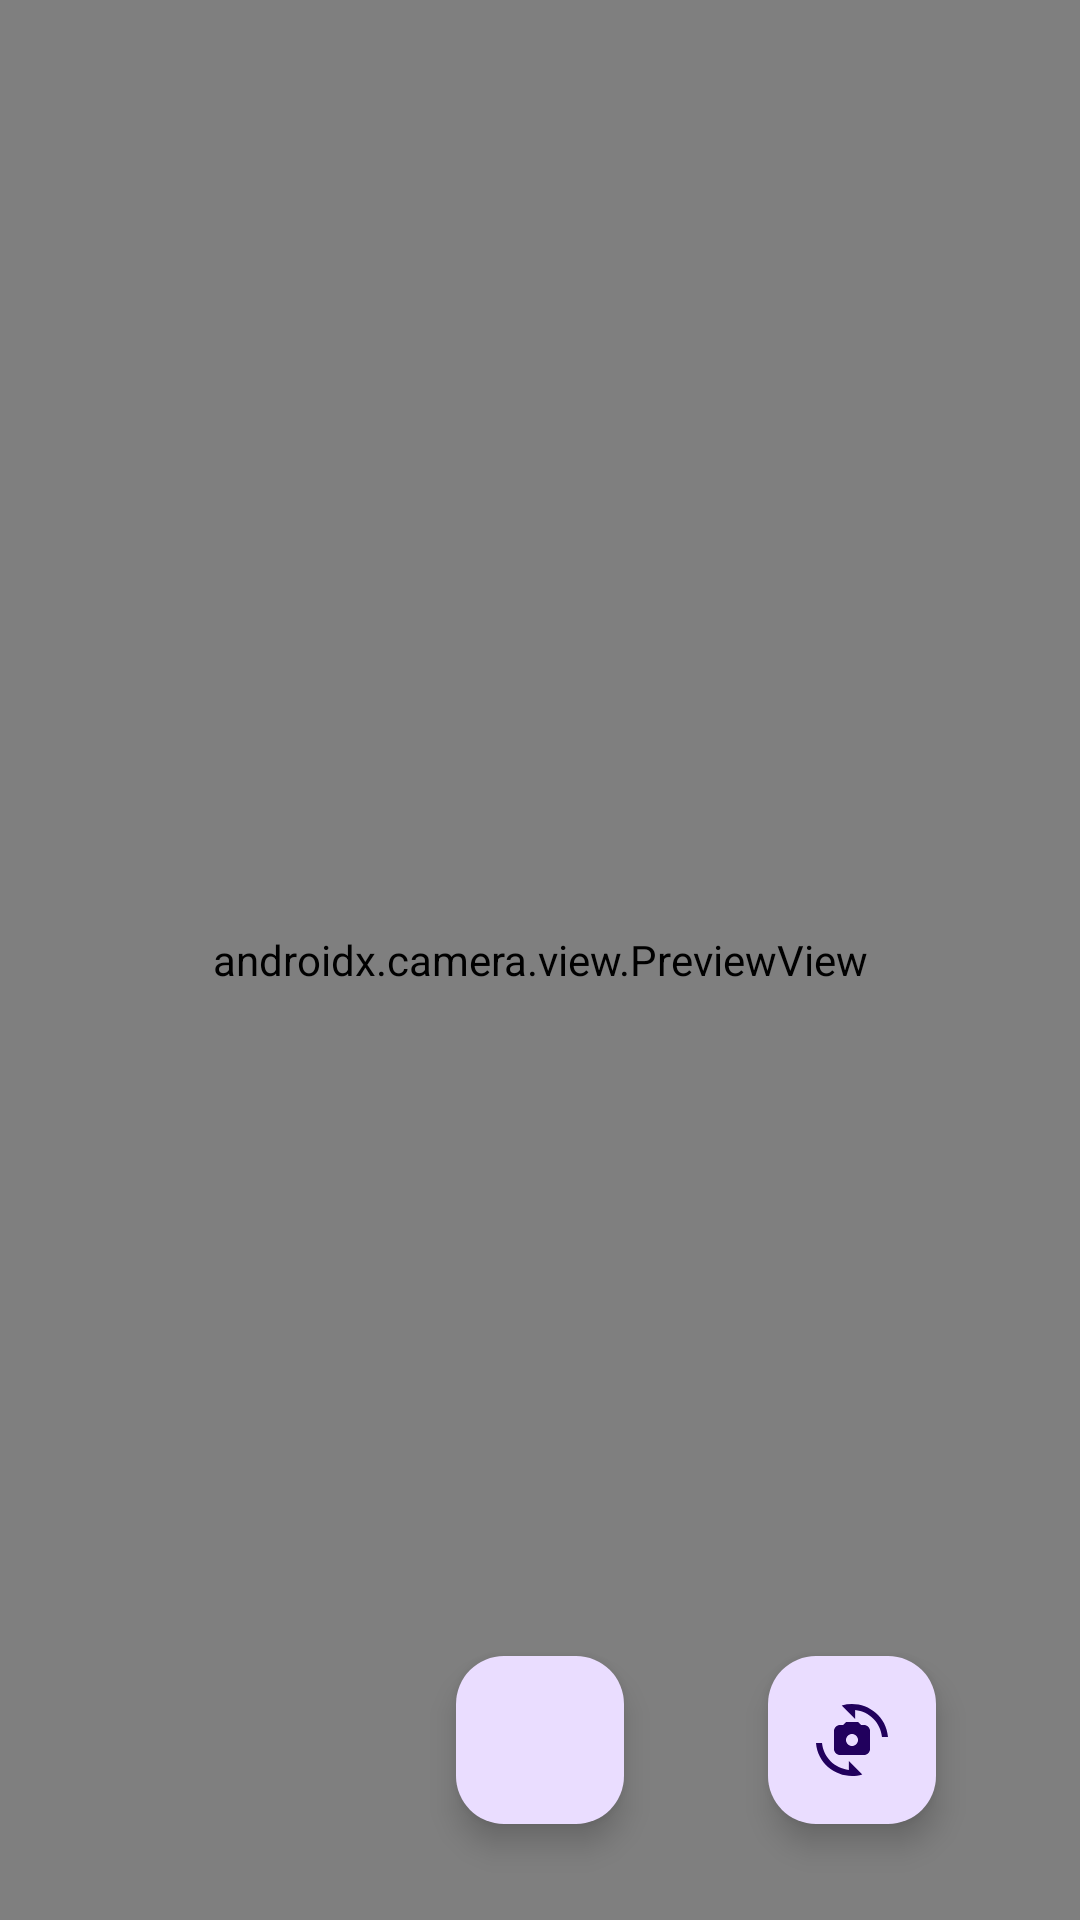

Named icons in this screenshot (1080 x 1920) and their bounding boxes, (x1, y1, x2, y2):
Switch camera: (768, 1656, 936, 1824)
